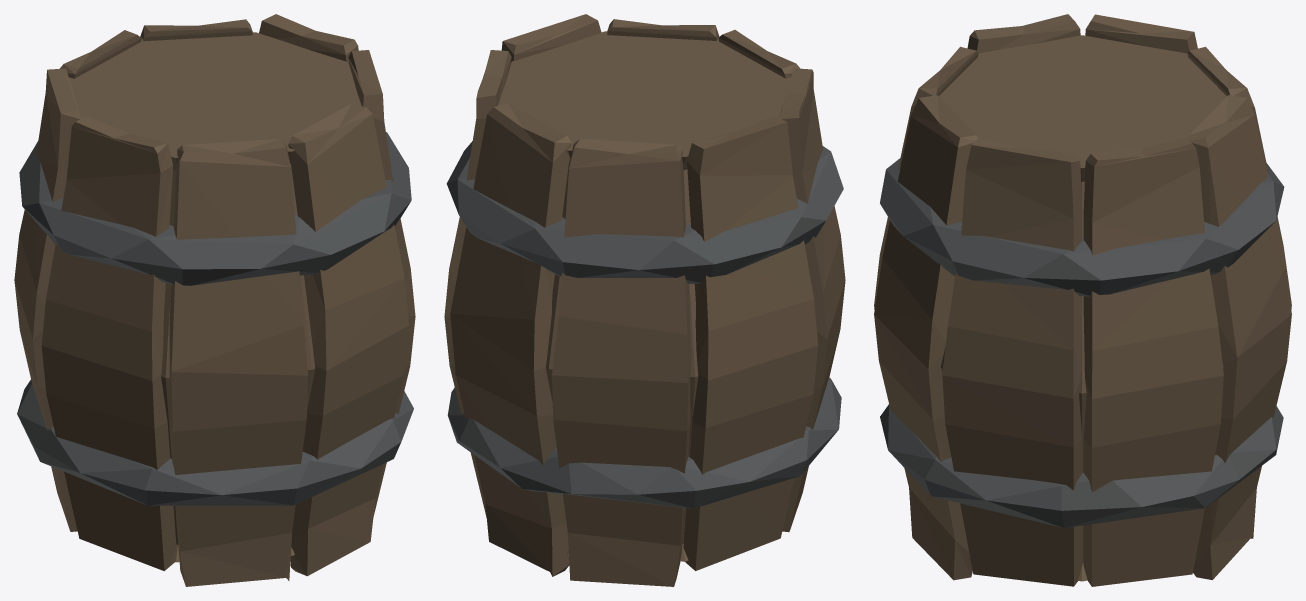
Rendered from barrel.glb.
3 views of the same model, side by side, from view 1: azimuth 30°, elevation 25°; view 2: azimuth 150°, elevation 25°; view 3: azimuth 270°, elevation 25° (orthographic). The views are drawn at different scales.
Visible parts, largest first — view 1: barrel; view 2: barrel; view 3: barrel.
Part boxes in pixels (x1=…): barrel: x1=14, y1=14, x2=415, y2=586; barrel: x1=444, y1=14, x2=845, y2=586; barrel: x1=874, y1=14, x2=1291, y2=586.
Bounding box in the file's own units: 0.7443 × 0.8767 × 0.7415.
